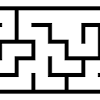maze: (1, 5, 100, 93)
